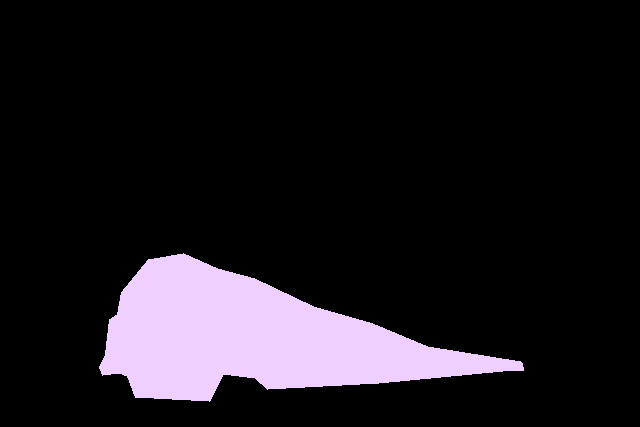Train: (99, 253, 524, 402)
